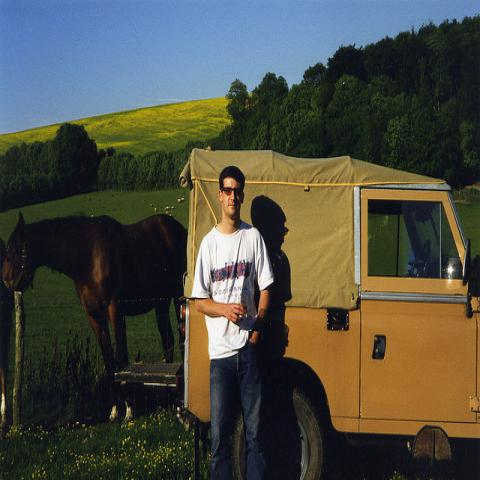truck: (178, 146, 479, 474)
